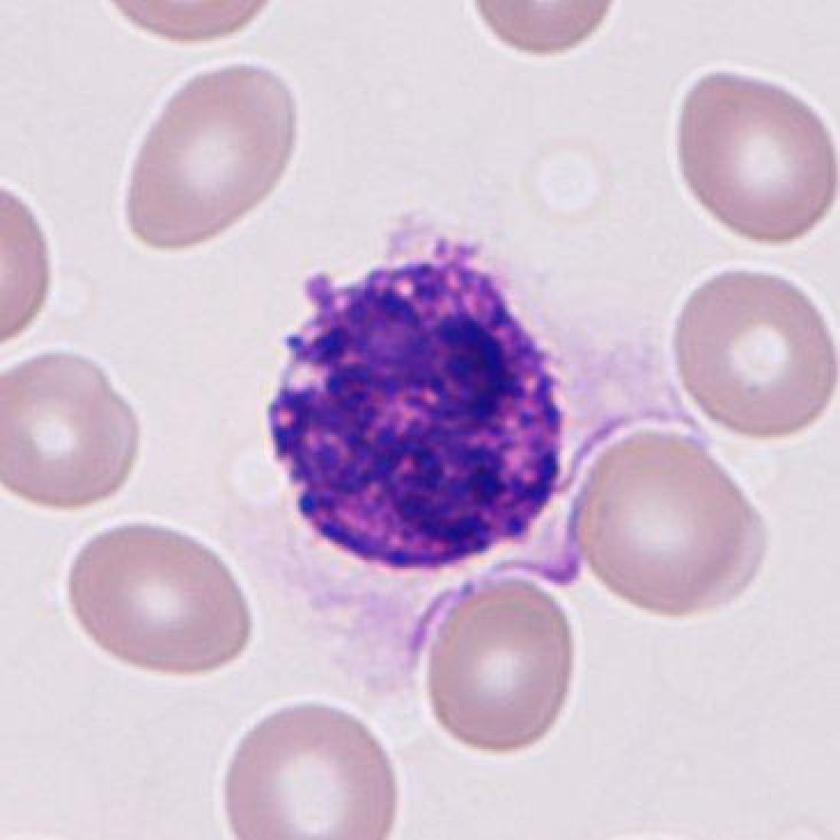basophil: (254, 238, 573, 577)
